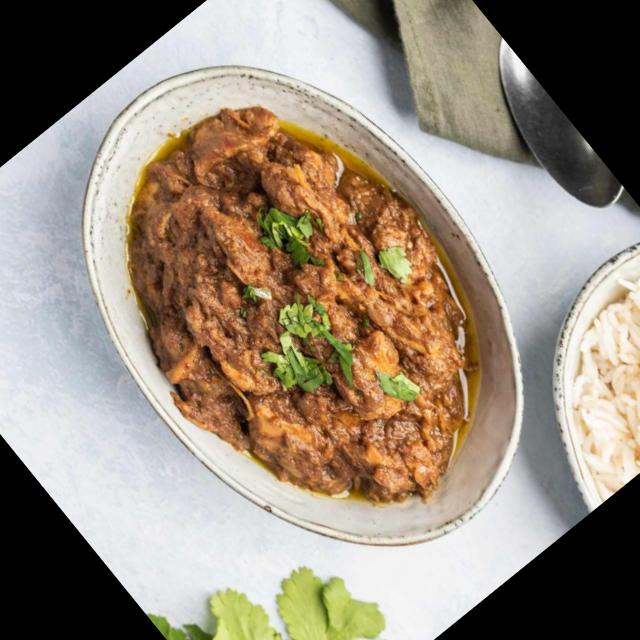chicken: (72, 68, 536, 552), (519, 253, 640, 490)
